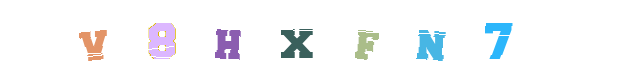7: (421, 0, 501, 80)
8: (152, 0, 232, 80)
F: (274, 0, 354, 80)
H: (192, 0, 272, 80)
N: (309, 0, 389, 80)
V: (62, 0, 142, 80)
X: (256, 0, 336, 80)
